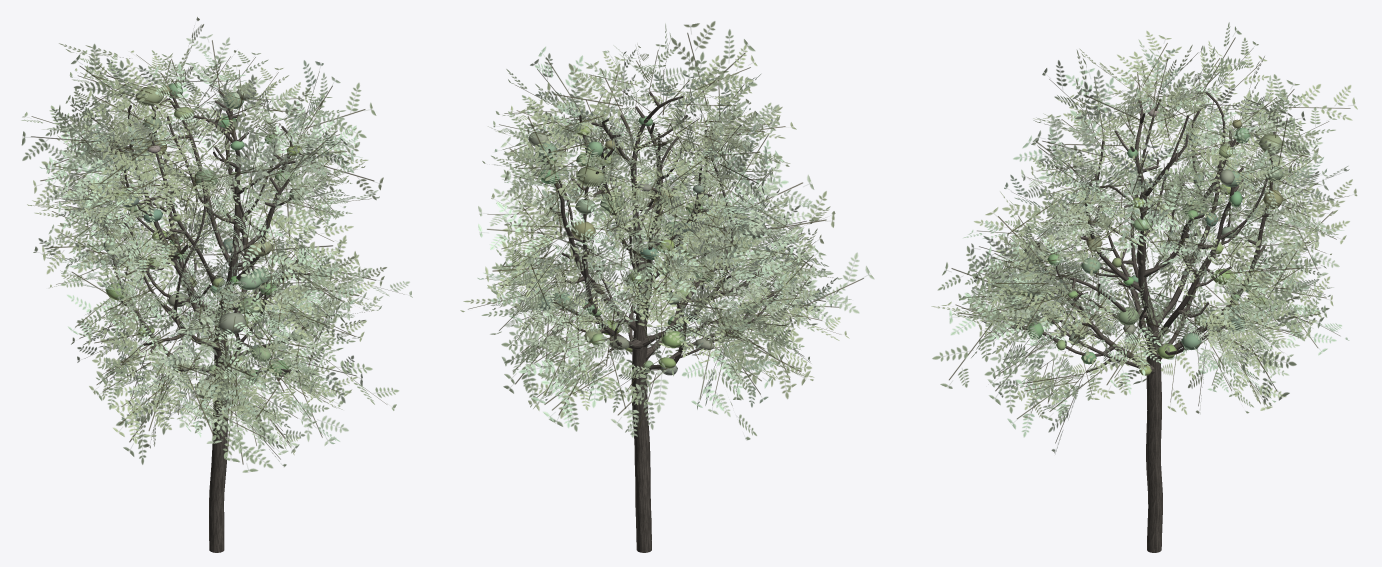
File: tree_51_broadleaf.glb
The picture shows the model from 3 angles, left to right: view 1: azimuth 30°, elevation 25°; view 2: azimuth 150°, elevation 25°; view 3: azimuth 270°, elevation 25°; orthographic projection. The views are drawn at different scales.
Parts seen in each view (by area): view 1: tree_51_broadleaf.leaves, tree_51_broadleaf.trunk_branches, tree_51_broadleaf.foliage_volume; view 2: tree_51_broadleaf.leaves, tree_51_broadleaf.trunk_branches, tree_51_broadleaf.foliage_volume; view 3: tree_51_broadleaf.leaves, tree_51_broadleaf.trunk_branches, tree_51_broadleaf.foliage_volume.
Part boxes in pixels (box(x1,y1,x2,y2)): tree_51_broadleaf.leaves: box(21, 17, 412, 472); tree_51_broadleaf.trunk_branches: box(105, 90, 311, 552); tree_51_broadleaf.foliage_volume: box(103, 83, 302, 398); tree_51_broadleaf.leaves: box(460, 21, 874, 440); tree_51_broadleaf.trunk_branches: box(535, 91, 778, 552); tree_51_broadleaf.foliage_volume: box(528, 116, 766, 375); tree_51_broadleaf.leaves: box(931, 22, 1357, 453); tree_51_broadleaf.trunk_branches: box(1009, 91, 1275, 552); tree_51_broadleaf.foliage_volume: box(1009, 108, 1283, 375).
Size of the model in its own units: 6.04 by 9.15 by 7.5.
Materials: 3 (2 with a texture image).
